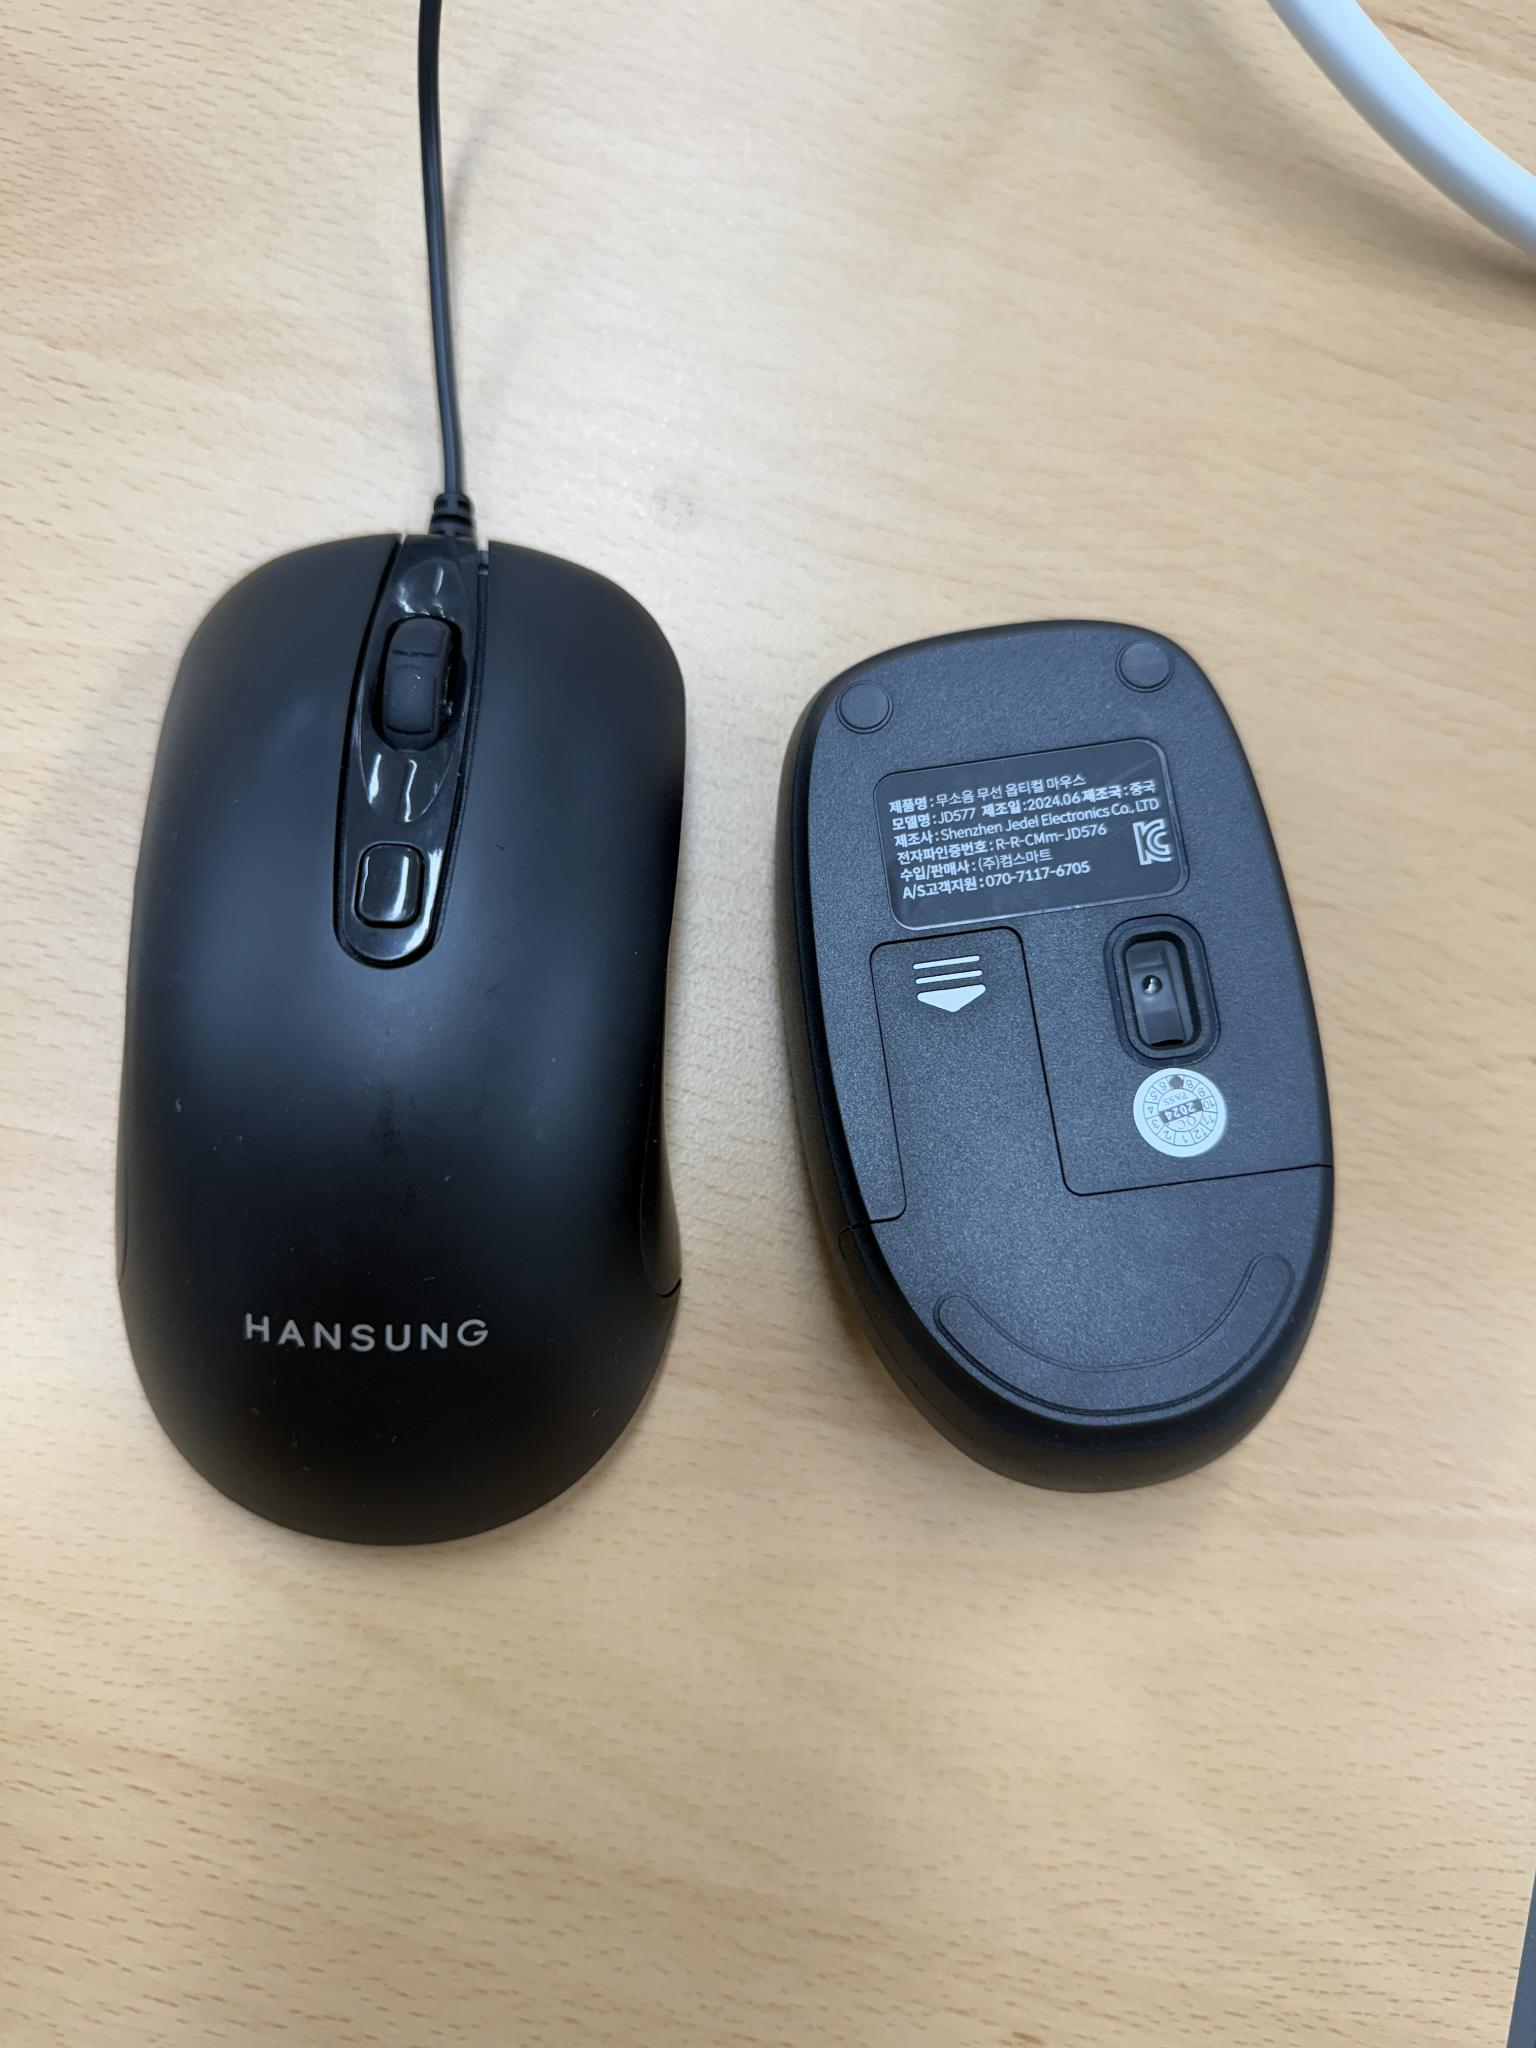back: (766, 610, 1344, 1496)
front: (123, 534, 686, 1551)
